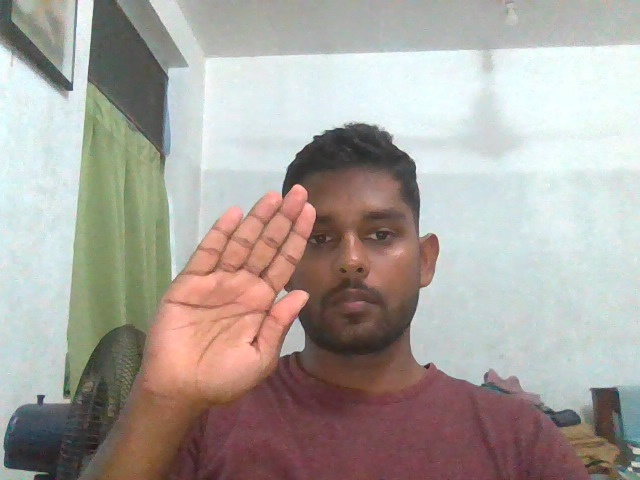bye: (122, 178, 326, 403)
